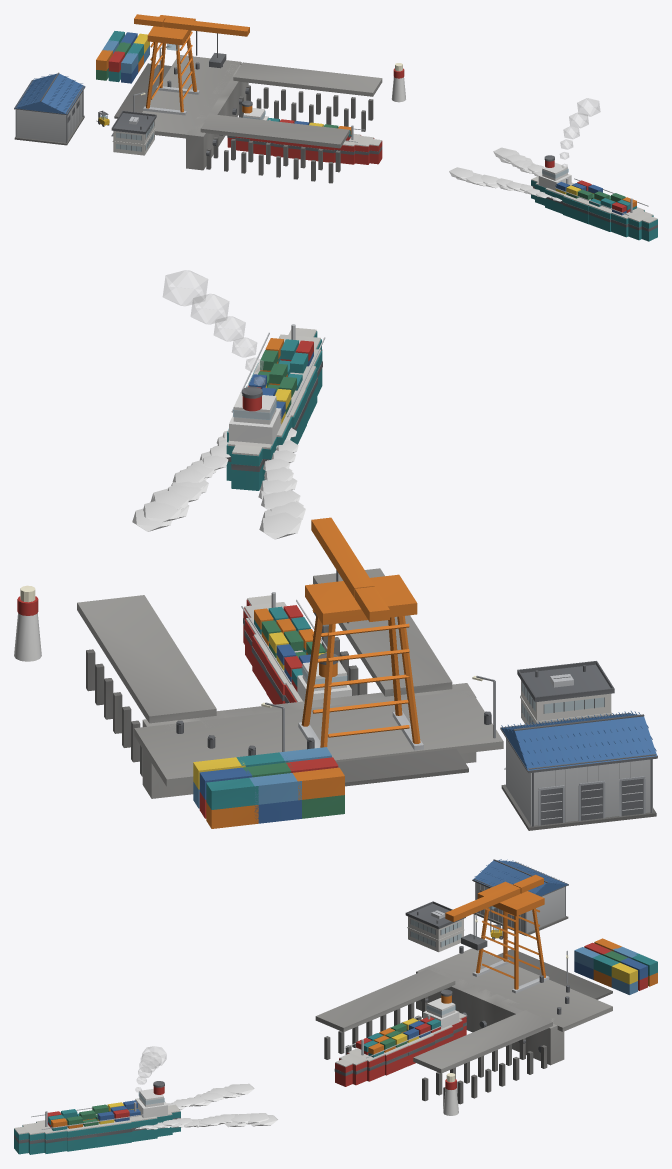
File: Port_P2.fbx
3 renders of one model, top to bottom at view 1: azimuth 30°, elevation 25°; view 2: azimuth 150°, elevation 25°; view 3: azimuth 270°, elevation 25°, orthographic. The views are drawn at different scales.
Parts seen in each view (by area): view 1: Port.Apron, Port.ShipOut, Port.Pier0, Port.Pier1, Port.Shed, Port.Crane0, Port.Ship0, Port.QuayWall, Port.Containers, Port.Wake, Port.Control, Port.ShipSmoke (+1 smaller); view 2: Port.Apron, Port.Shed, Port.Crane0, Port.Pier1, Port.Containers, Port.ShipOut, Port.Ship0, Port.Wake, Port.Pier0, Port.Control, Port.ShipSmoke, Port.QuayWall (+1 smaller); view 3: Port.Apron, Port.ShipOut, Port.Ship0, Port.Pier1, Port.Crane0, Port.Pier0, Port.QuayWall, Port.Shed, Port.Containers, Port.Wake, Port.Control, Port.ShipSmoke (+1 smaller).
Boxes of the visible parts, x1,y1,x2,y2 form: Port.Apron: (114,55,241,138); Port.ShipOut: (531,155,657,241); Port.Pier0: (200,114,349,183); Port.Pier1: (233,62,382,131); Port.Shed: (14,72,85,145); Port.Crane0: (134,14,249,115); Port.Ship0: (227,100,382,164); Port.QuayWall: (186,64,249,170); Port.Containers: (96,31,149,83); Port.Wake: (449,147,561,201); Port.Control: (111,111,156,155); Port.ShipSmoke: (560,98,600,168); Port.Apron: (134,690,503,786); Port.Shed: (500,711,657,830); Port.Crane0: (298,517,423,750); Port.Pier1: (77,595,216,776); Port.Containers: (193,747,344,828); Port.ShipOut: (226,324,325,490); Port.Ship0: (241,592,351,704); Port.Wake: (132,427,305,539); Port.Pier0: (313,568,452,696); Port.Control: (517,661,614,724); Port.ShipSmoke: (163,270,265,385); Port.QuayWall: (142,683,476,798); Port.Apron: (424,948,612,1031); Port.ShipOut: (14,1081,180,1154); Port.Ship0: (334,989,466,1086); Port.Pier1: (413,1010,552,1108); Port.Crane0: (445,874,549,993); Port.Pier0: (315,969,455,1059); Port.QuayWall: (416,966,564,1065); Port.Shed: (472,859,568,936); Port.Containers: (574,938,657,994); Port.Wake: (135,1083,277,1129); Port.Control: (405,901,465,952); Port.ShipSmoke: (135,1046,166,1092).
Bounding box in the file's own units: 13425 × 3630 × 16308.
